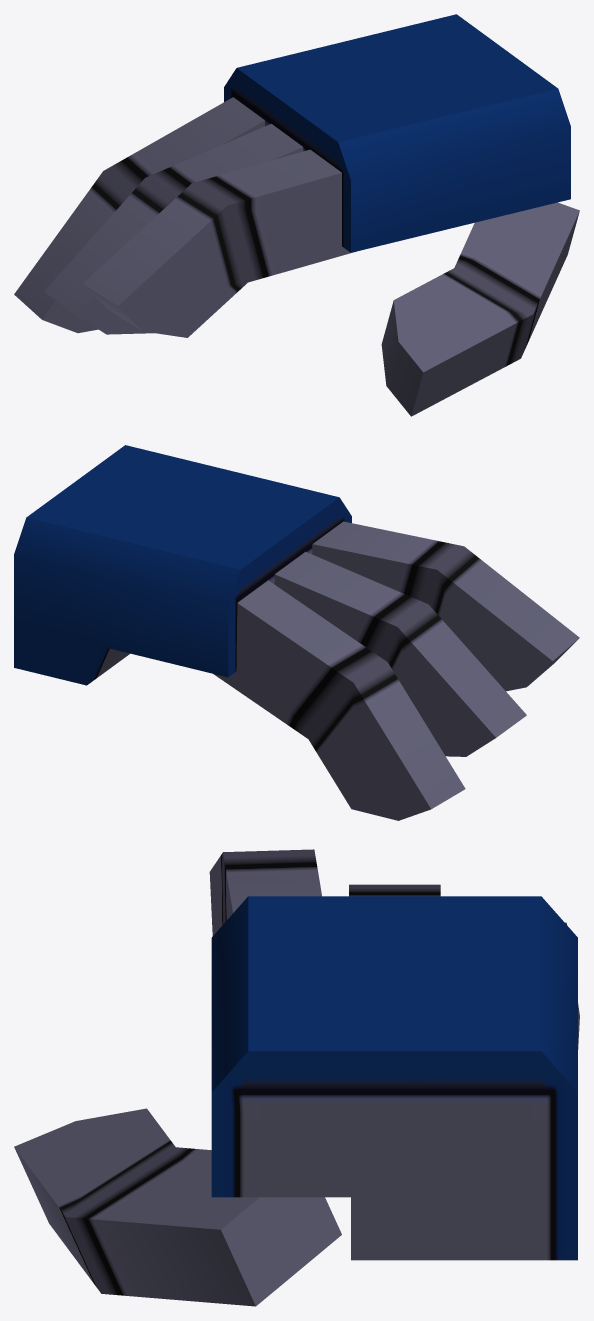
The picture shows the model from 3 angles, top to bottom: view 1: azimuth 30°, elevation 25°; view 2: azimuth 150°, elevation 25°; view 3: azimuth 270°, elevation 25°; orthographic projection. The views are drawn at different scales.
Visible parts, largest first — view 1: Joint_0_Object_0; view 2: Joint_0_Object_0; view 3: Joint_0_Object_0.
Boxes of the visible parts, box(x1,y1,x2,y2) form: Joint_0_Object_0: box(14, 14, 579, 416); Joint_0_Object_0: box(14, 445, 579, 820); Joint_0_Object_0: box(14, 849, 579, 1306).
Size of the model in its own units: 63.38 by 29 by 45.86.
Materials: 1 (1 with a texture image).
